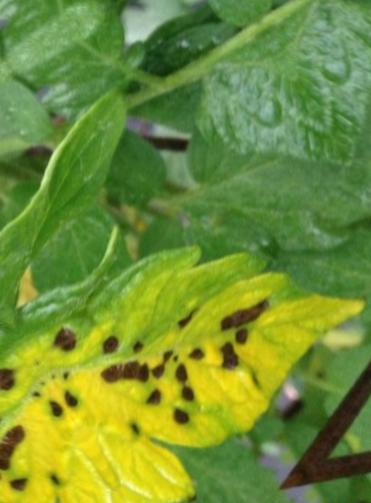Tomato leaf bacterial spot: (0, 88, 371, 503)
